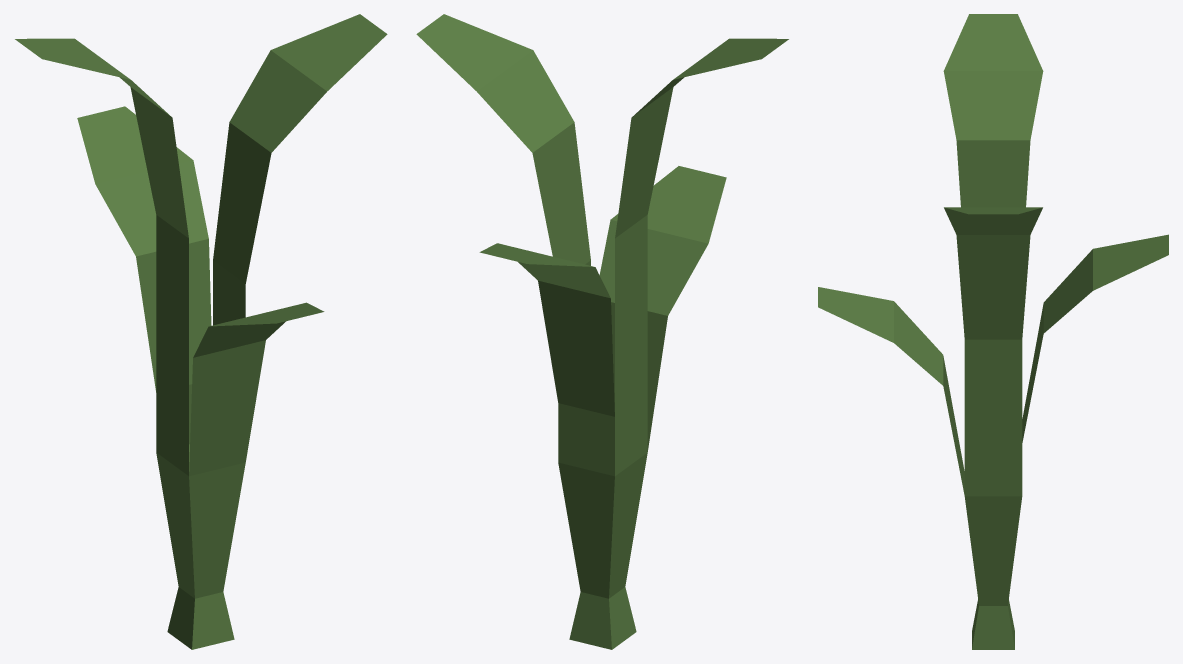
Rendered from shrub-red-flowering-currant.glb.
3 views of the same model, side by side, from view 1: azimuth 30°, elevation 25°; view 2: azimuth 150°, elevation 25°; view 3: azimuth 270°, elevation 25° (orthographic). The views are drawn at different scales.
Visible parts, largest first — view 1: crops_leafsStageB; view 2: crops_leafsStageB; view 3: crops_leafsStageB.
Boxes of the visible parts, x1,y1,x2,y2 form: crops_leafsStageB: (15, 14, 387, 649); crops_leafsStageB: (416, 14, 788, 649); crops_leafsStageB: (818, 14, 1168, 649).
Size of the model in its own units: 1.44 by 2.5 by 1.44.
